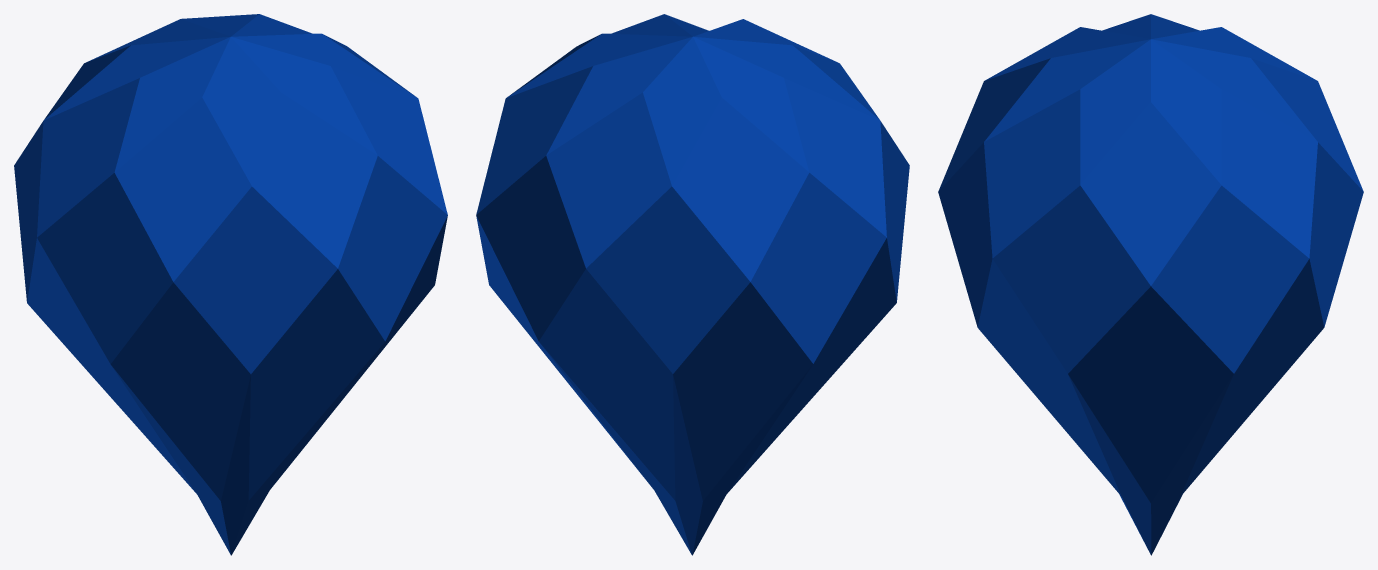
Rendered from Droplet.fbx.
3 views of the same model, side by side, from view 1: azimuth 30°, elevation 25°; view 2: azimuth 150°, elevation 25°; view 3: azimuth 270°, elevation 25° (orthographic).
Visible parts, largest first — view 1: _BaseDroplet; view 2: _BaseDroplet; view 3: _BaseDroplet.
Part boxes in pixels (x1=…): _BaseDroplet: x1=14, y1=14, x2=447, y2=555; _BaseDroplet: x1=476, y1=14, x2=909, y2=555; _BaseDroplet: x1=938, y1=14, x2=1363, y2=555.
Size of the model in its own units: 17.79 by 22.74 by 16.99.
